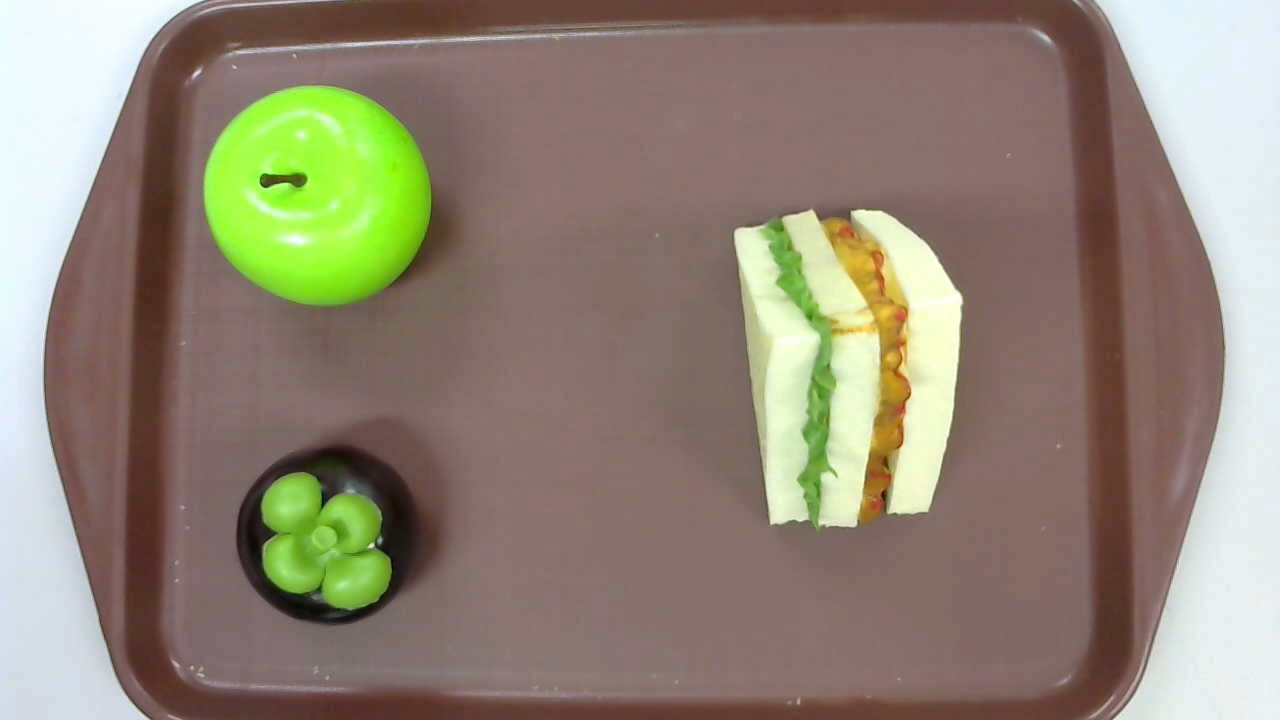green apple: (204, 85, 432, 309)
mangosteen: (237, 441, 422, 625)
sandwich: (733, 209, 966, 531)
